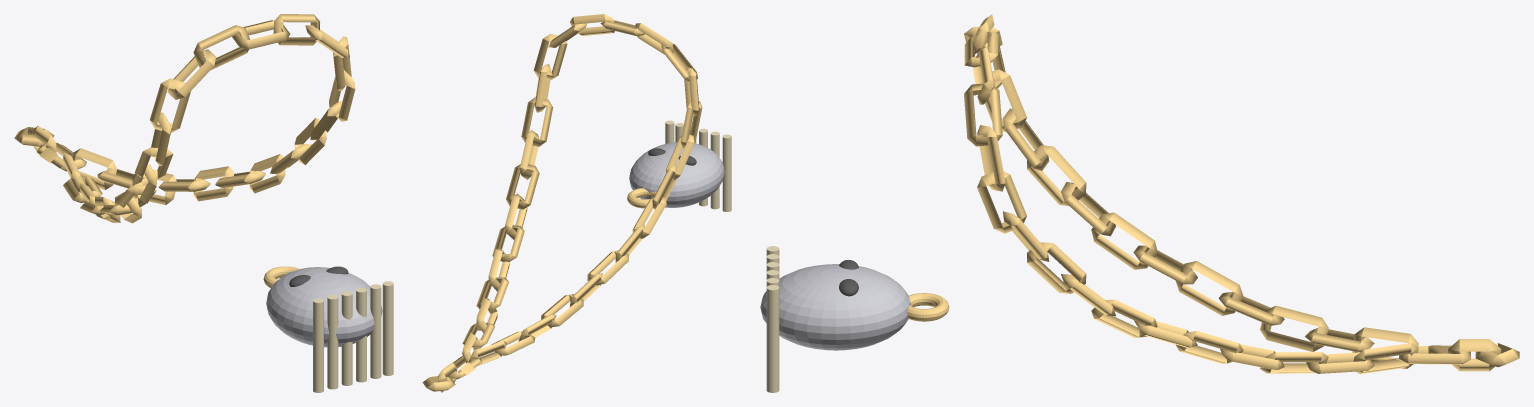
Rendered from chain_bannon_piece.glb.
The picture shows the model from 3 angles, left to right: view 1: azimuth 30°, elevation 25°; view 2: azimuth 150°, elevation 25°; view 3: azimuth 270°, elevation 25°; orthographic projection. The views are drawn at different scales.
Visible parts, largest first — view 1: Object_6, bannon_piece_Mask, bannon_piece_Dread5, bannon_piece_Dread1, bannon_piece_Dread4, bannon_piece_Dread0, bannon_piece_Dread2, bannon_piece_Dread3, bannon_piece_Bail; view 2: Object_6, bannon_piece_Mask, bannon_piece_Dread0, bannon_piece_Dread1, bannon_piece_Bail; view 3: Object_6, bannon_piece_Mask, bannon_piece_Dread5, bannon_piece_Bail.
Boxes of the visible parts, x1,y1,x2,y2 form: Object_6: (14, 14, 355, 223); bannon_piece_Mask: (266, 267, 382, 347); bannon_piece_Dread5: (382, 281, 393, 375); bannon_piece_Dread1: (327, 294, 338, 389); bannon_piece_Dread4: (370, 284, 381, 378); bannon_piece_Dread0: (313, 298, 323, 392); bannon_piece_Dread2: (341, 291, 352, 385); bannon_piece_Dread3: (356, 287, 366, 382); bannon_piece_Bail: (263, 266, 299, 288); Object_6: (422, 14, 702, 392); bannon_piece_Mask: (629, 142, 724, 207); bannon_piece_Dread0: (722, 134, 731, 211); bannon_piece_Dread1: (710, 131, 719, 209); bannon_piece_Bail: (627, 188, 656, 208); Object_6: (964, 14, 1519, 374); bannon_piece_Mask: (760, 264, 910, 350); bannon_piece_Dread5: (766, 285, 779, 392); bannon_piece_Bail: (907, 293, 949, 321).
Bounding box in the file's own units: 2.12 × 2.95 × 6.03.
